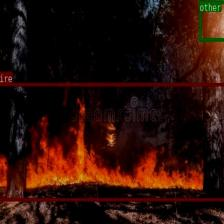fire: (0, 82, 224, 201)
